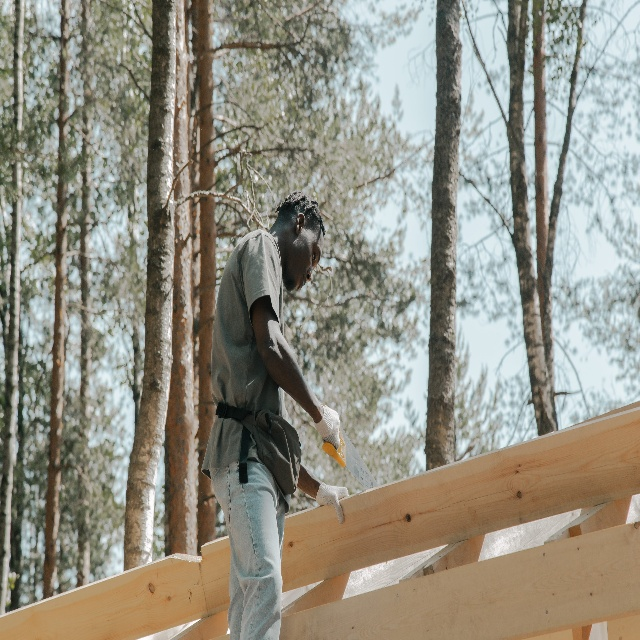Guantes: (313, 402, 341, 448), (314, 480, 349, 511)
